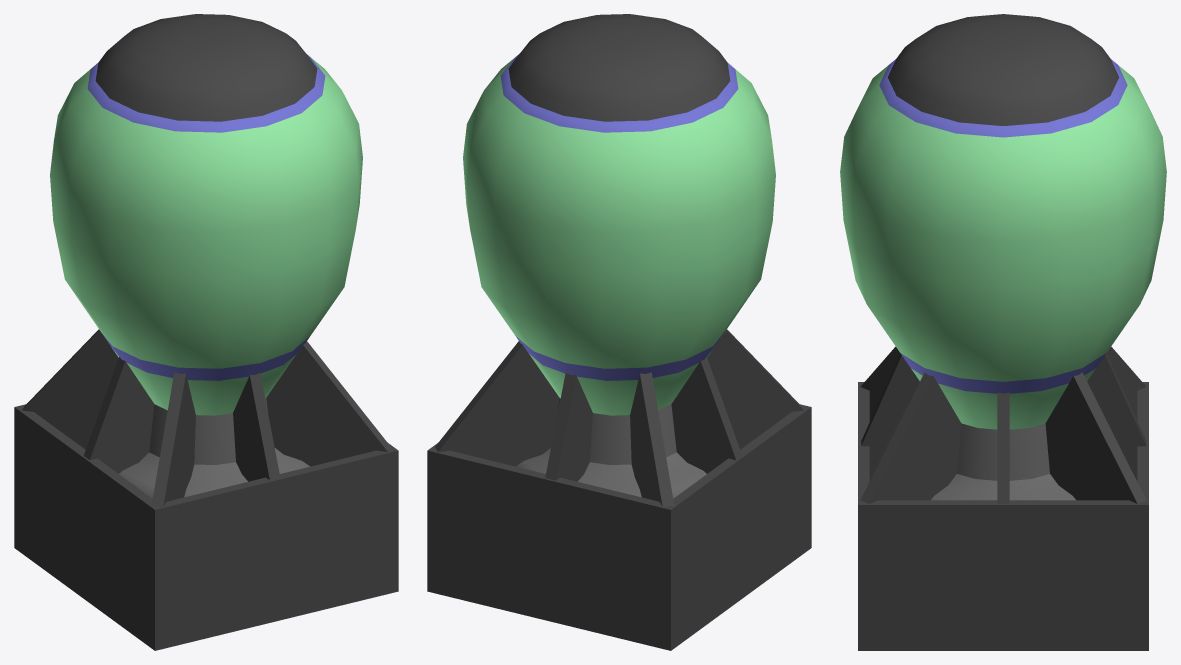
The model's file is Bomb_Lv5.fbx.
3 views of the same model, side by side, from view 1: azimuth 30°, elevation 25°; view 2: azimuth 150°, elevation 25°; view 3: azimuth 270°, elevation 25° (orthographic). The views are drawn at different scales.
Visible parts, largest first — view 1: Motor_5, Body_5, Head_5; view 2: Motor_5, Body_5, Head_5; view 3: Body_5, Motor_5, Head_5.
Boxes of the visible parts, x1,y1,x2,y2 form: Motor_5: (14, 329, 398, 650); Body_5: (50, 54, 362, 415); Head_5: (95, 14, 317, 121); Motor_5: (427, 329, 811, 650); Body_5: (463, 54, 775, 415); Head_5: (508, 14, 730, 121); Body_5: (840, 59, 1166, 429); Motor_5: (858, 346, 1148, 650); Head_5: (887, 14, 1119, 125).
Size of the model in its own units: 2.82 by 5.37 by 2.82.
